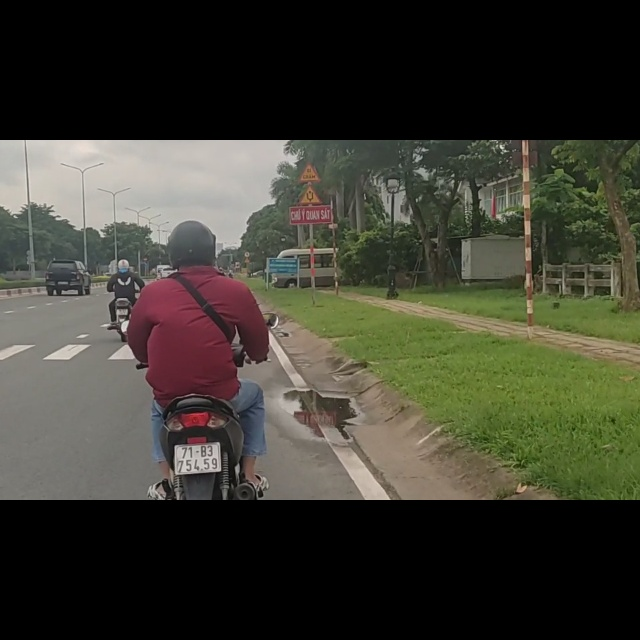bien_hieu_lenh: (301, 78, 324, 115), (299, 43, 321, 73)
